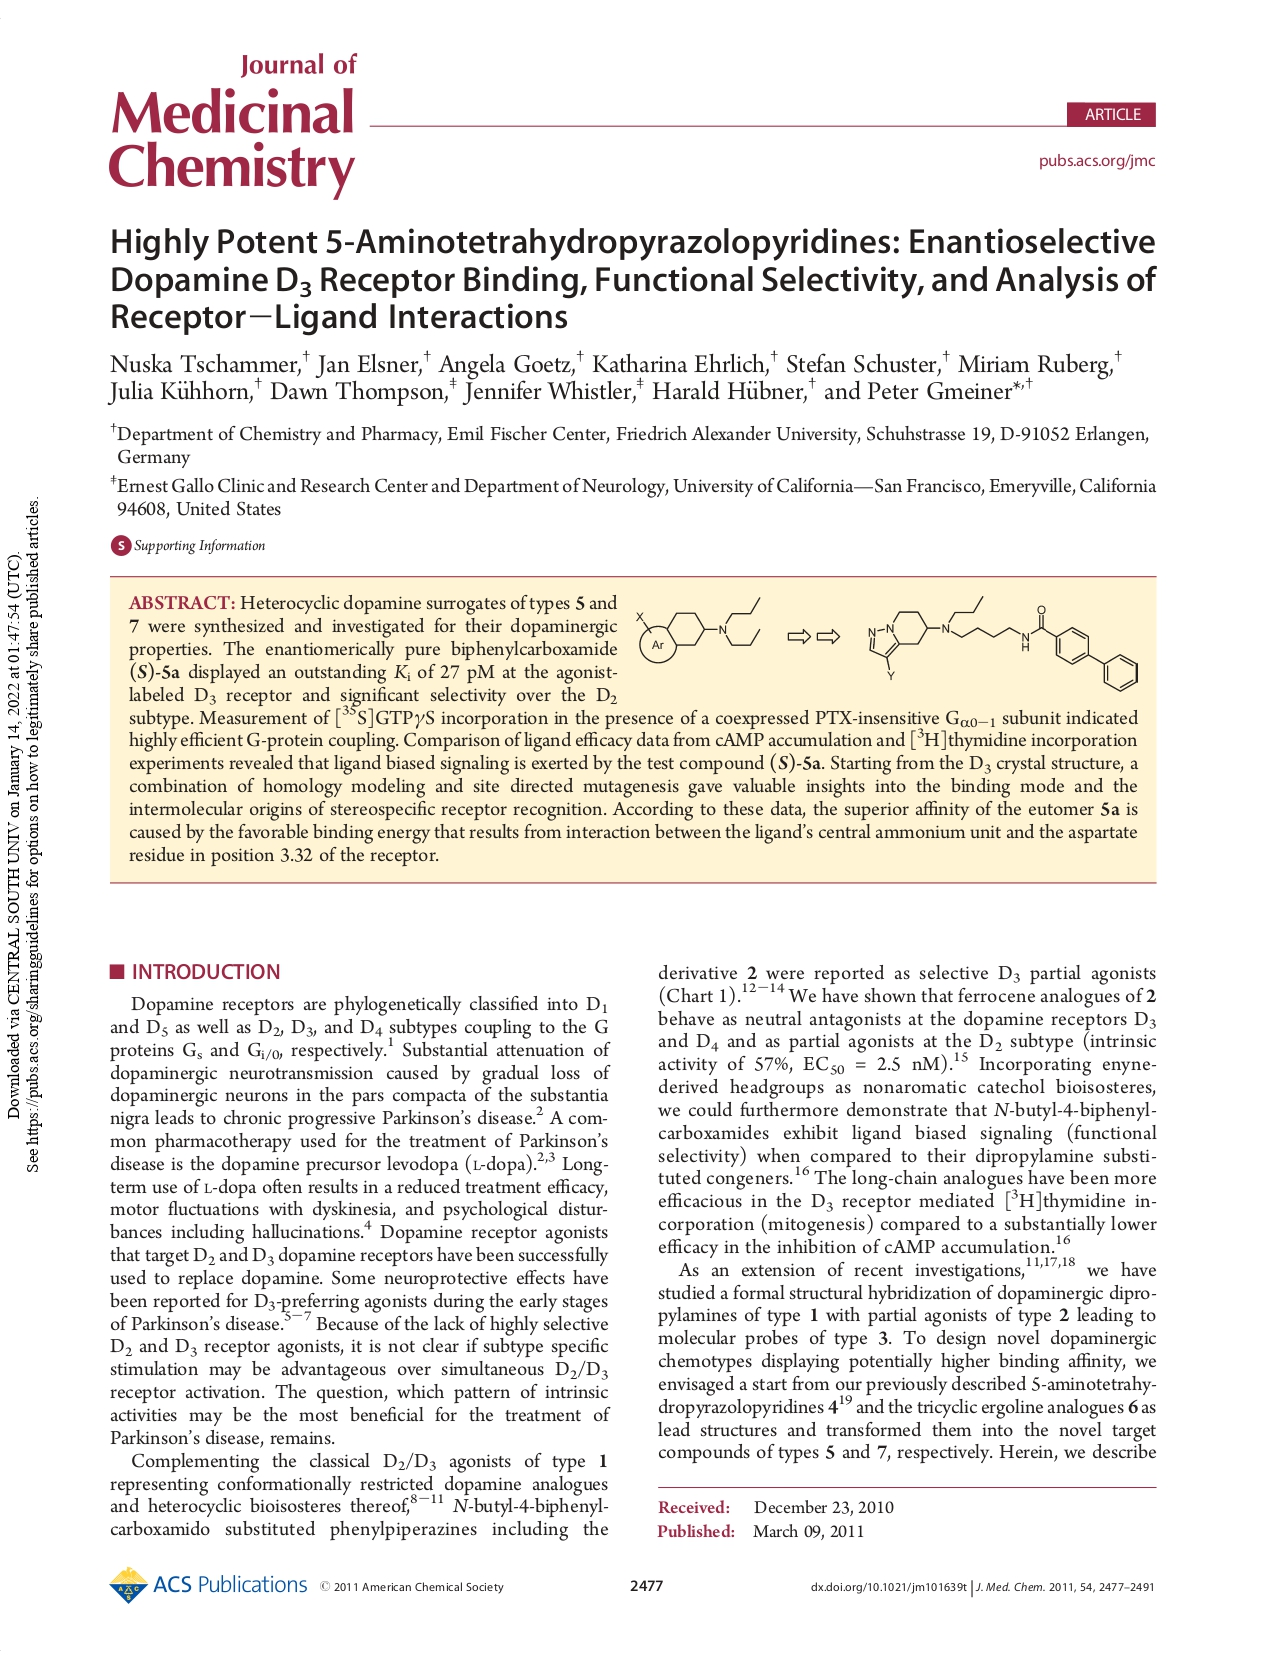exist_molecular: (866, 594, 1141, 696), (632, 594, 763, 664)
